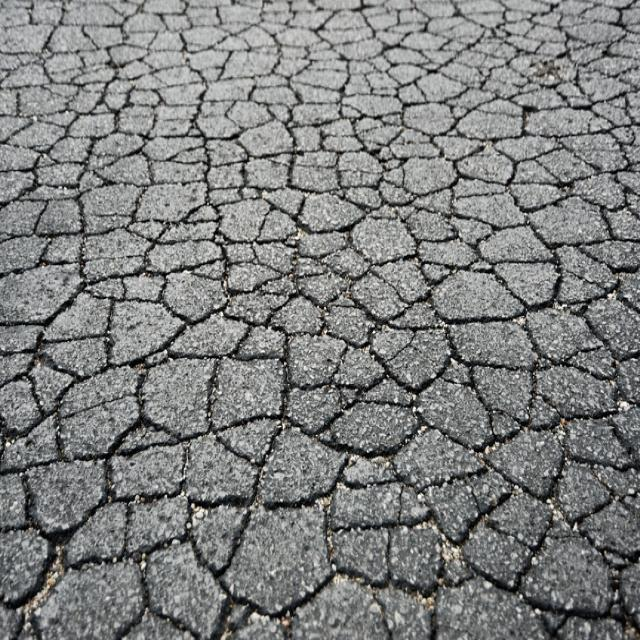Drain Hole: (13, 12, 640, 636)
